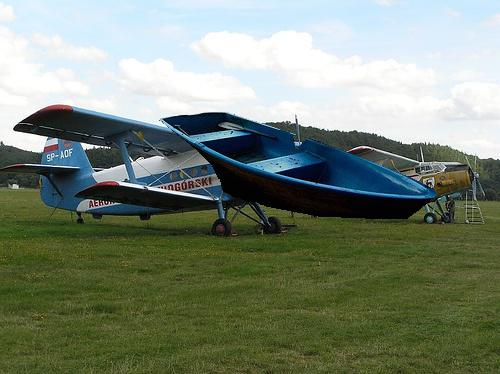tampered: (160, 113, 437, 219)
